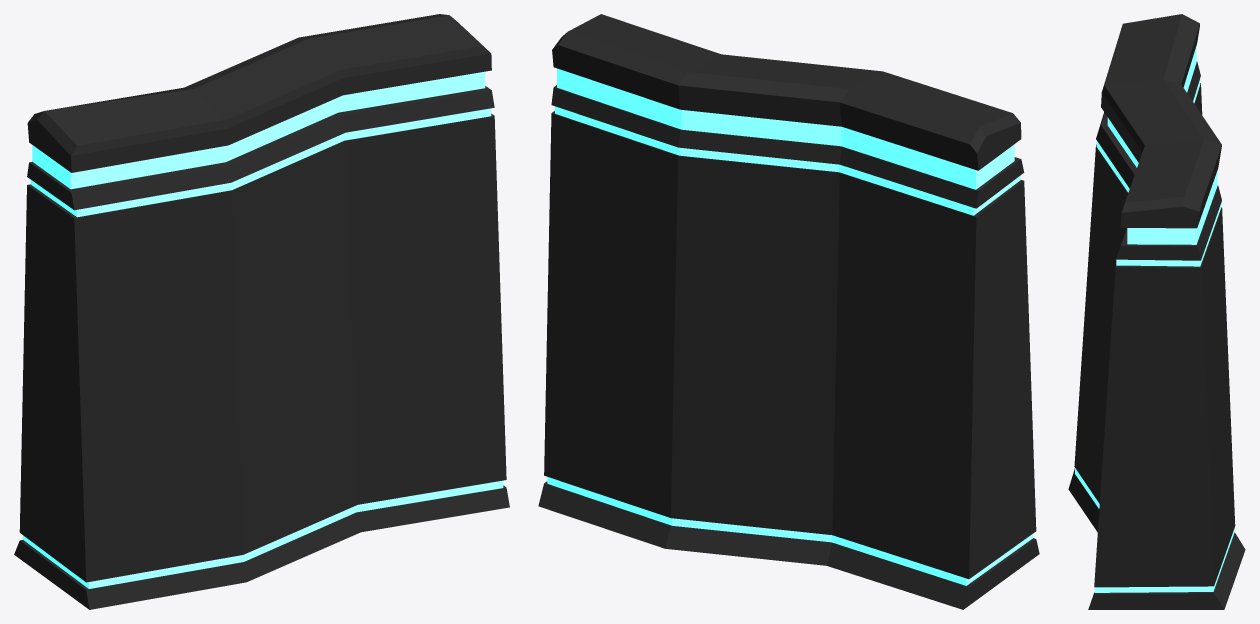
Rendered from High wall distorted 2L.fbx.
3 renders of one model, left to right at view 1: azimuth 30°, elevation 25°; view 2: azimuth 150°, elevation 25°; view 3: azimuth 270°, elevation 25°, orthographic. The views are drawn at different scales.
Parts seen in each view (by area): view 1: High Wall Distorted 2L; view 2: High Wall Distorted 2L; view 3: High Wall Distorted 2L.
Part boxes in pixels (x1,y1,x2,y2): High Wall Distorted 2L: [14, 14, 509, 609]; High Wall Distorted 2L: [538, 14, 1039, 609]; High Wall Distorted 2L: [1068, 14, 1245, 609].
Size of the model in its own units: 629 by 255 by 656.
